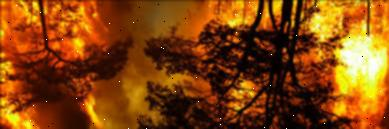fire: (198, 0, 389, 129), (0, 0, 127, 128)
